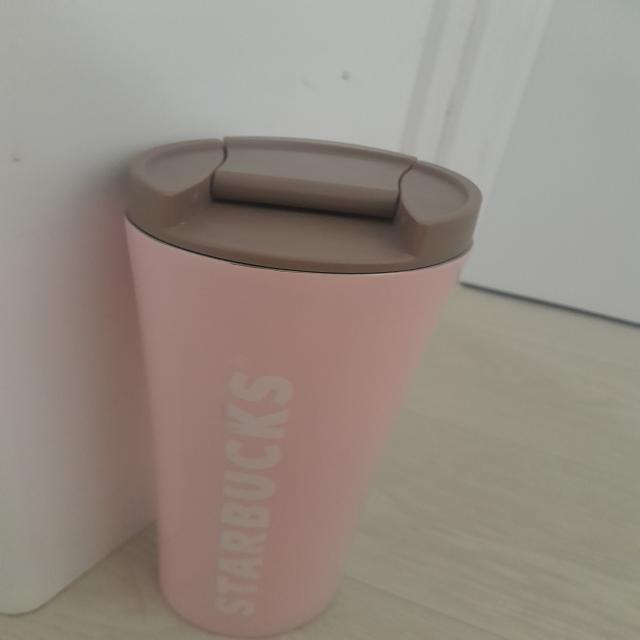waterbottle: (124, 140, 480, 638)
